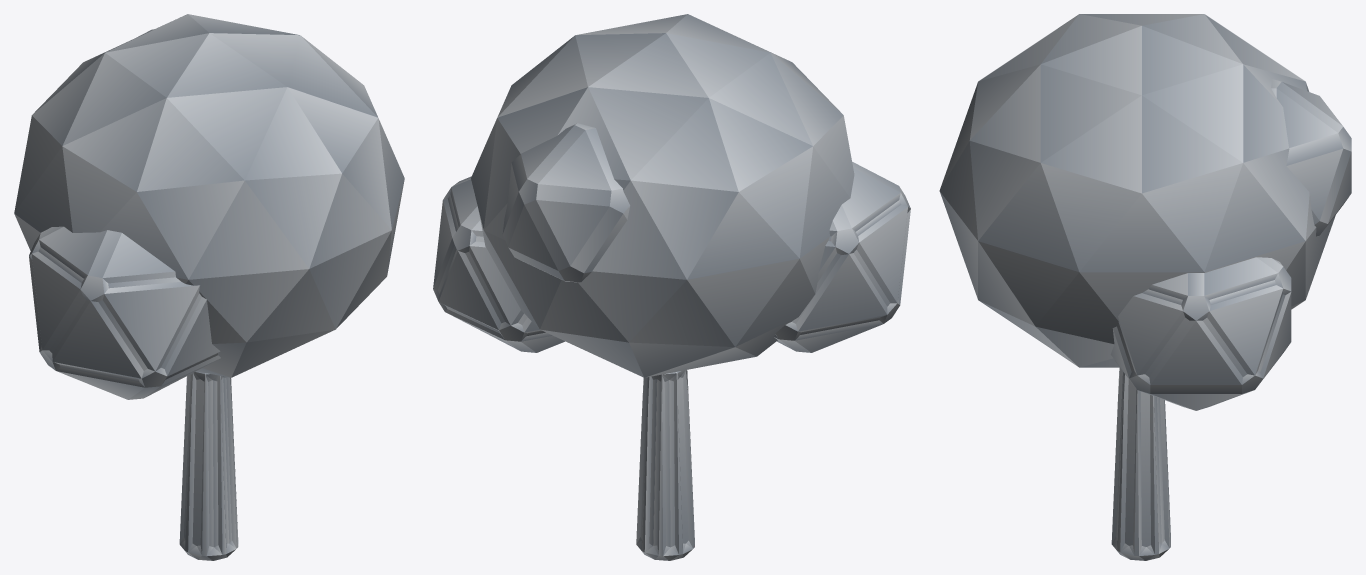
File: dt_big_street_tree.fbx
3 renders of one model, left to right at view 1: azimuth 30°, elevation 25°; view 2: azimuth 150°, elevation 25°; view 3: azimuth 270°, elevation 25°, orthographic.
Visible parts, largest first — view 1: dt_big_street_tree; view 2: dt_big_street_tree; view 3: dt_big_street_tree.
Boxes of the visible parts, x1,y1,x2,y2 form: dt_big_street_tree: [14, 14, 404, 560]; dt_big_street_tree: [433, 14, 910, 560]; dt_big_street_tree: [939, 14, 1351, 560].
Size of the model in its own units: 1586 by 2000 by 1421.
